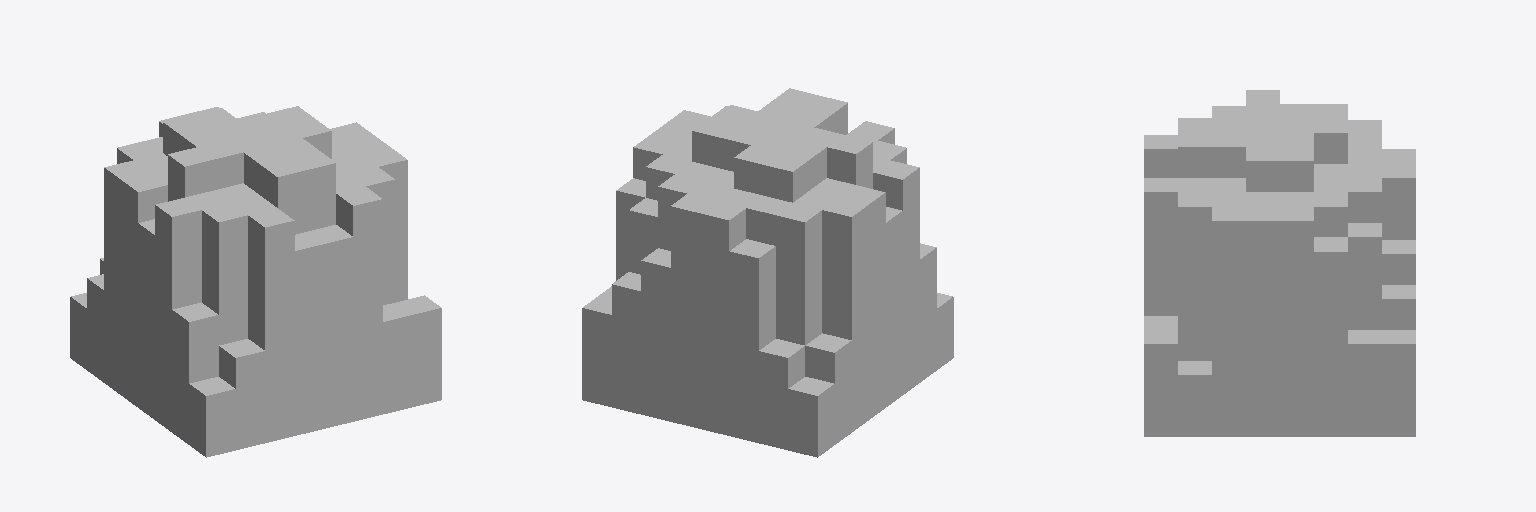
Rendered from rock.obj.
3 views of the same model, side by side, from view 1: azimuth 30°, elevation 25°; view 2: azimuth 150°, elevation 25°; view 3: azimuth 270°, elevation 25° (orthographic).
Parts seen in each view (by area): view 1: object 1; view 2: object 1; view 3: object 1.
Part boxes in pixels (bbox=[...]): object 1: bbox=[70, 106, 441, 457]; object 1: bbox=[582, 88, 953, 457]; object 1: bbox=[1144, 90, 1415, 436].
Size of the model in its own units: 0.8 by 0.8 by 0.8.